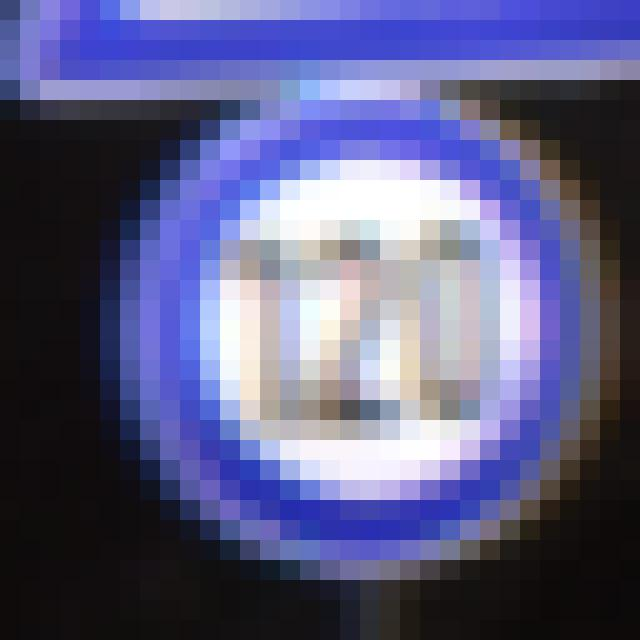SPEED LIMIT 120: (93, 101, 625, 580)
